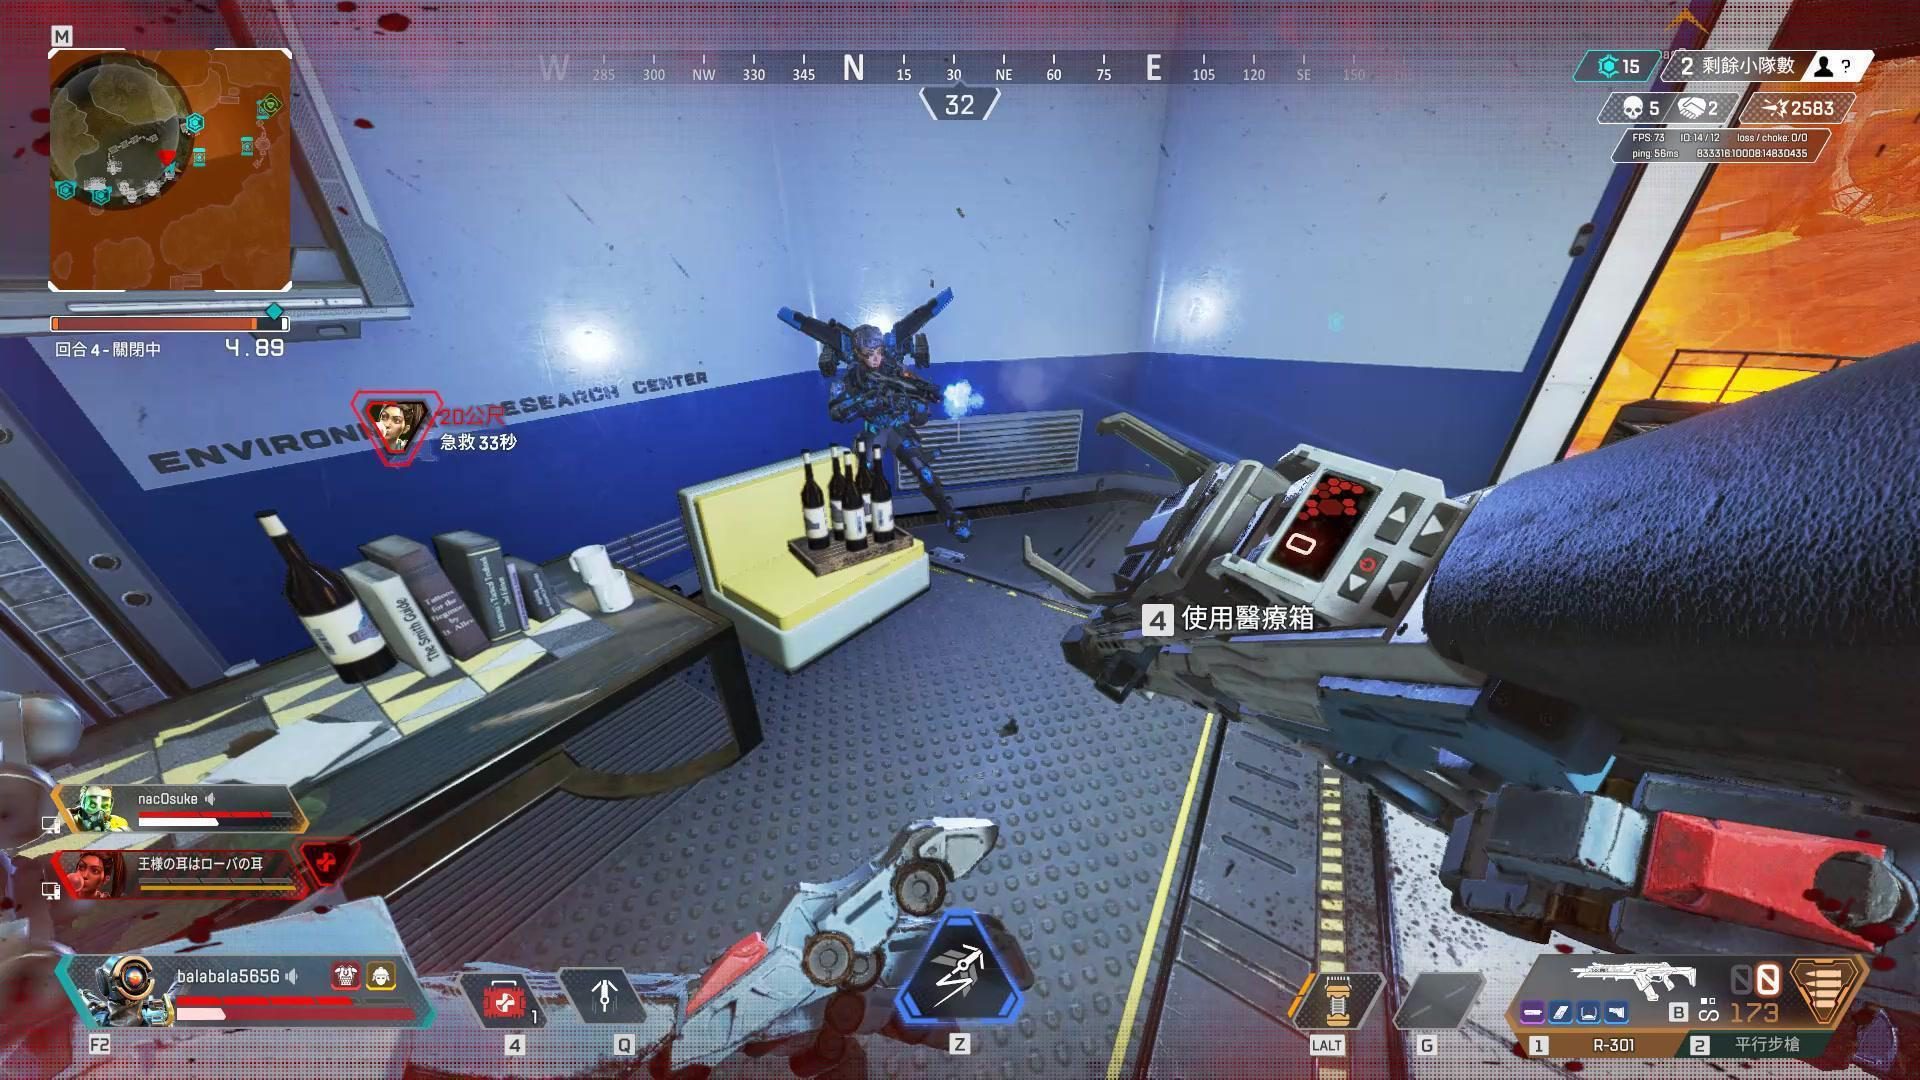avatar: (816, 323, 933, 434)
